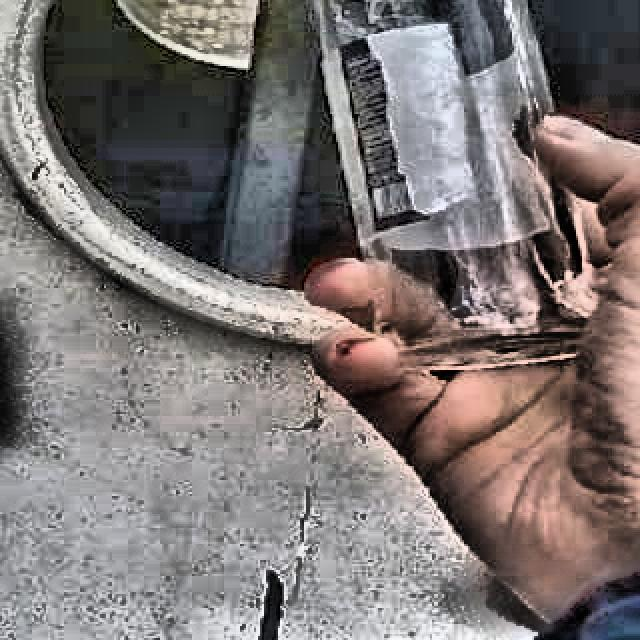glass: (314, 0, 592, 371)
